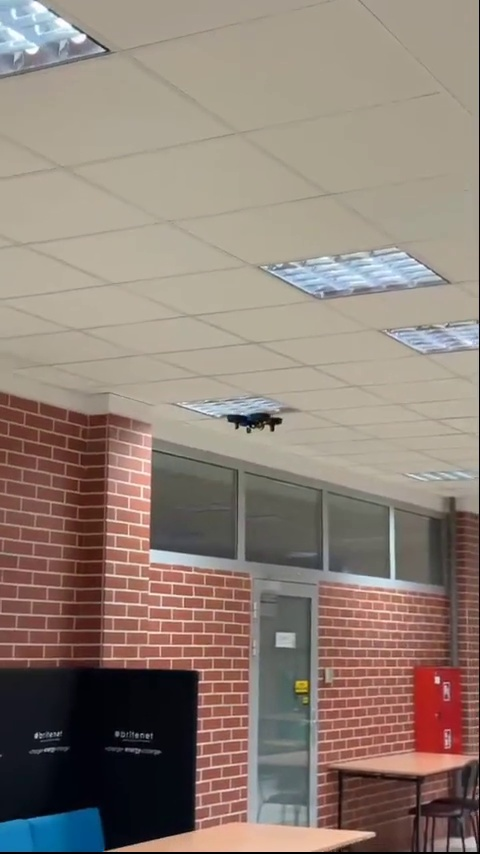drone: (231, 410, 282, 431)
